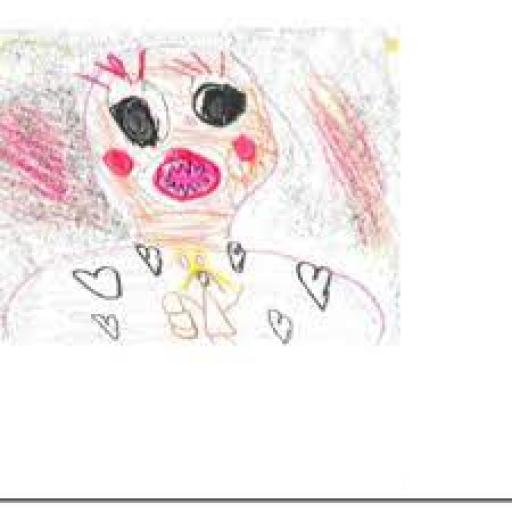person: (76, 34, 293, 250), (156, 243, 247, 362)
